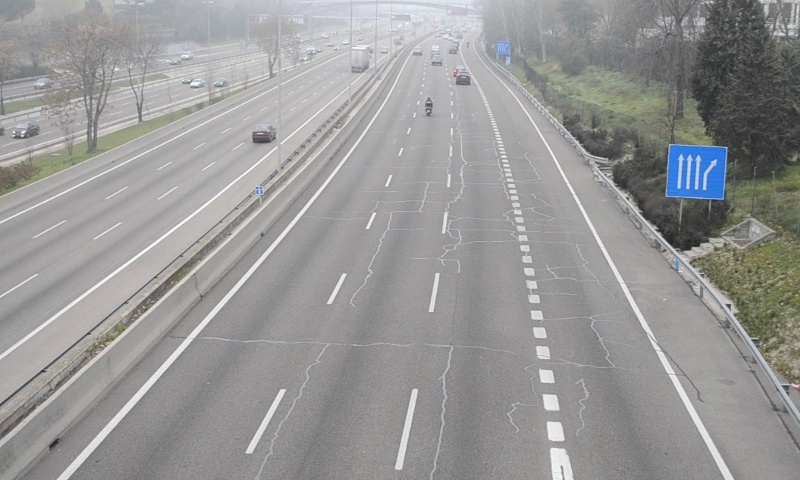car: (456, 69, 470, 84)
motorcycle: (424, 97, 433, 119)
